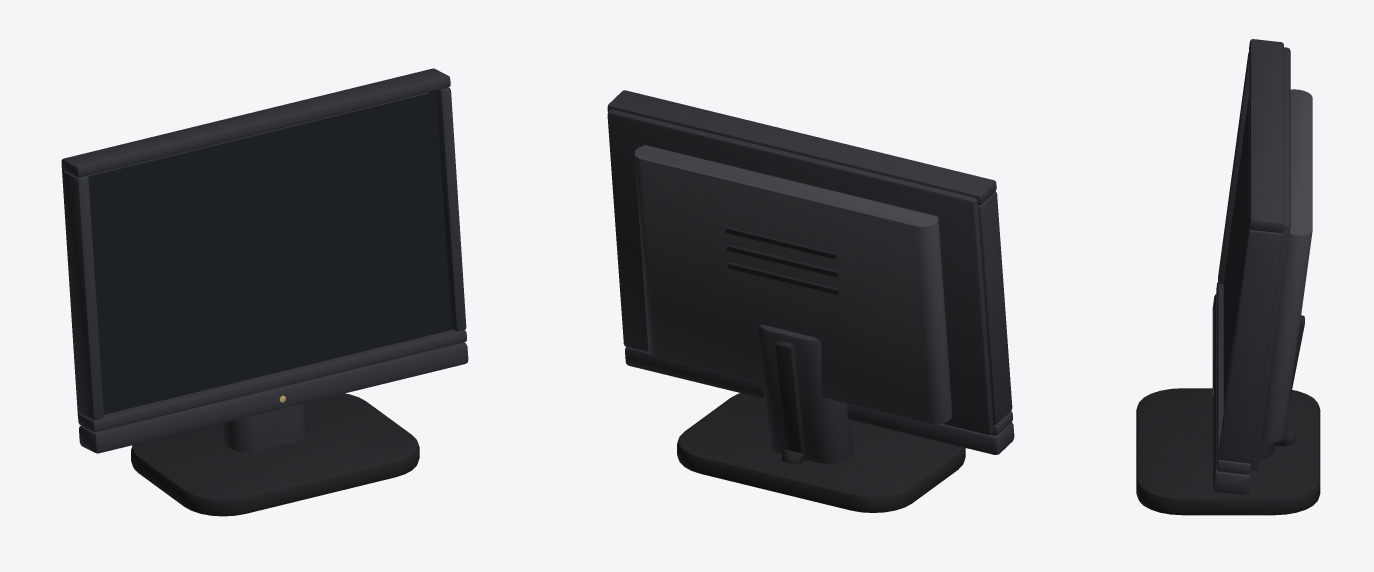
The model's file is pos_monitor.glb.
3 renders of one model, left to right at view 1: azimuth 30°, elevation 25°; view 2: azimuth 150°, elevation 25°; view 3: azimuth 270°, elevation 25°, orthographic.
Visible parts, largest first — view 1: POS_Screen, POS_Base, POS_BezelTop, POS_Chin, POS_BezelLeft, POS_BezelBottom, POS_BezelRight, POS_Stand, POS_Bezel; view 2: POS_Rear, POS_Bezel, POS_Base, POS_BezelTop, POS_Stand, POS_Chin, POS_BezelLeft, POS_CableChannel, pos_vent0, pos_vent1, pos_vent2; view 3: POS_Base, POS_BezelRight, POS_Rear, POS_BezelTop, POS_Screen, POS_Bezel, POS_BezelBottom, POS_Chin, POS_BezelLeft, POS_CableChannel.
Boxes of the visible parts, x1=… form: POS_Screen: x1=88, y1=92, x2=451, y2=414; POS_Base: x1=131, y1=393, x2=419, y2=516; POS_BezelTop: x1=61, y1=68, x2=450, y2=177; POS_Chin: x1=79, y1=342, x2=468, y2=453; POS_BezelLeft: x1=62, y1=170, x2=103, y2=420; POS_BezelBottom: x1=78, y1=329, x2=466, y2=432; POS_BezelRight: x1=429, y1=87, x2=466, y2=331; POS_Stand: x1=221, y1=403, x2=307, y2=452; POS_Bezel: x1=61, y1=92, x2=428, y2=415; POS_Rear: x1=634, y1=145, x2=952, y2=423; POS_Bezel: x1=607, y1=109, x2=994, y2=434; POS_Base: x1=677, y1=393, x2=965, y2=512; POS_BezelTop: x1=607, y1=90, x2=996, y2=204; POS_Stand: x1=757, y1=325, x2=853, y2=463; POS_Chin: x1=625, y1=347, x2=1014, y2=454; POS_BezelLeft: x1=978, y1=191, x2=1012, y2=424; POS_CableChannel: x1=775, y1=340, x2=806, y2=462; pos_vent0: x1=725, y1=226, x2=837, y2=259; pos_vent1: x1=726, y1=244, x2=838, y2=277; pos_vent2: x1=728, y1=262, x2=840, y2=294; POS_Base: x1=1136, y1=388, x2=1320, y2=515; POS_BezelRight: x1=1218, y1=228, x2=1282, y2=463; POS_Rear: x1=1261, y1=89, x2=1312, y2=442; POS_BezelTop: x1=1249, y1=39, x2=1283, y2=232; POS_Screen: x1=1223, y1=97, x2=1249, y2=409; POS_Bezel: x1=1249, y1=47, x2=1290, y2=470; POS_BezelBottom: x1=1216, y1=282, x2=1251, y2=474; POS_Chin: x1=1212, y1=294, x2=1250, y2=494; POS_BezelLeft: x1=1218, y1=52, x2=1248, y2=283; POS_CableChannel: x1=1275, y1=315, x2=1304, y2=446.
Bounding box in the file's own units: 0.39 × 0.34 × 0.22.
Materials: 8 (4 with a texture image).
